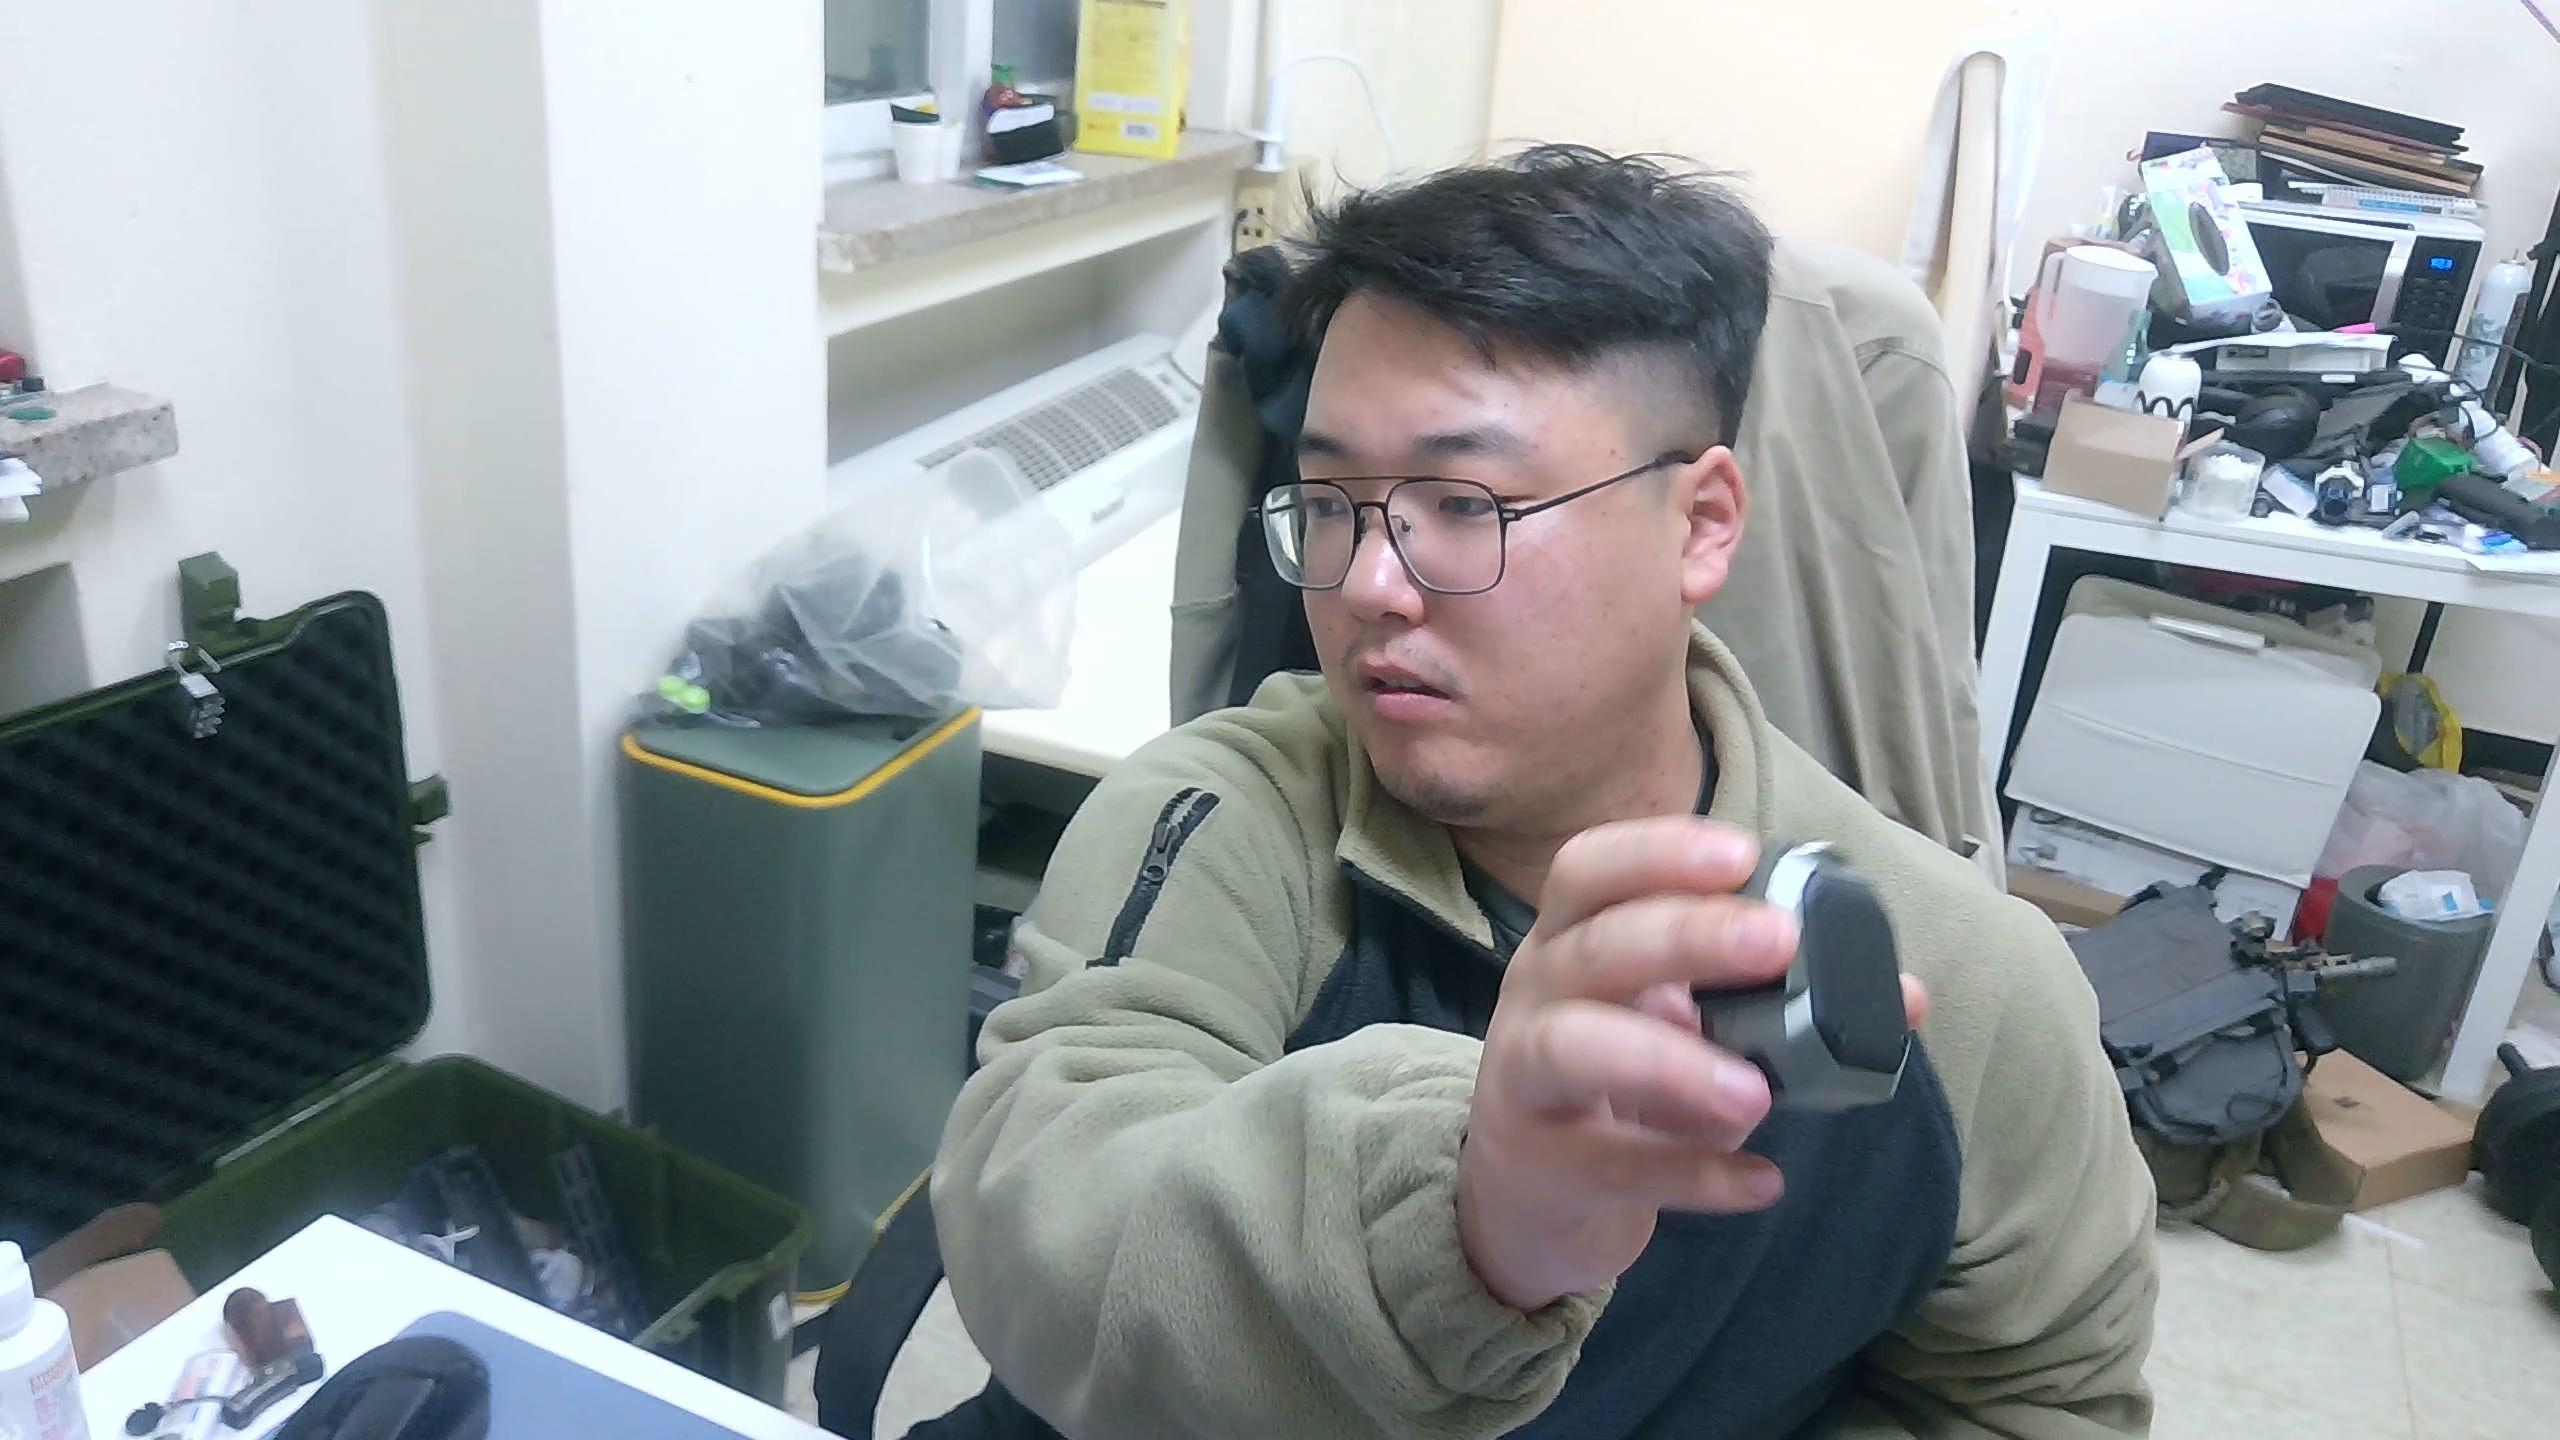blue_pliers: (1693, 835, 1916, 1116)
